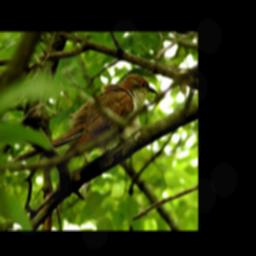Cuckoo: (10, 72, 159, 165)
